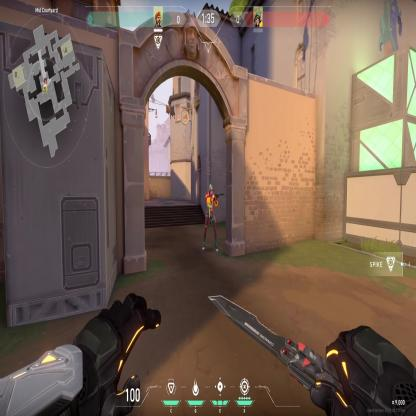enemy: (201, 182, 219, 255)
